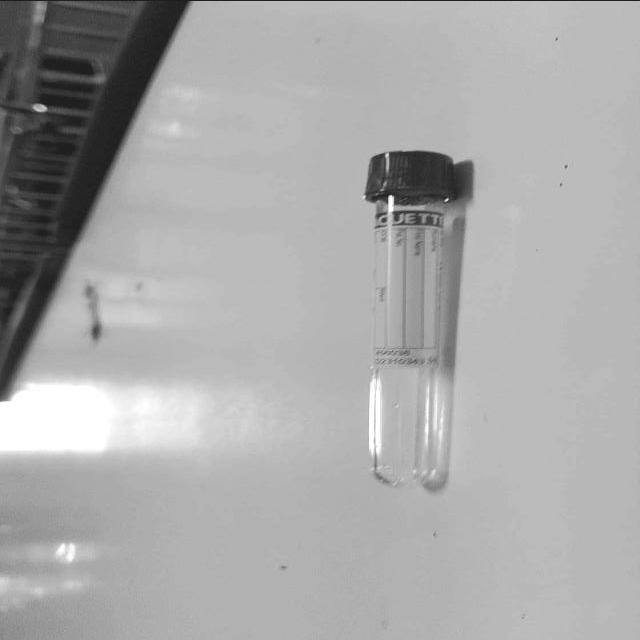Sharps: (361, 149, 462, 492)
